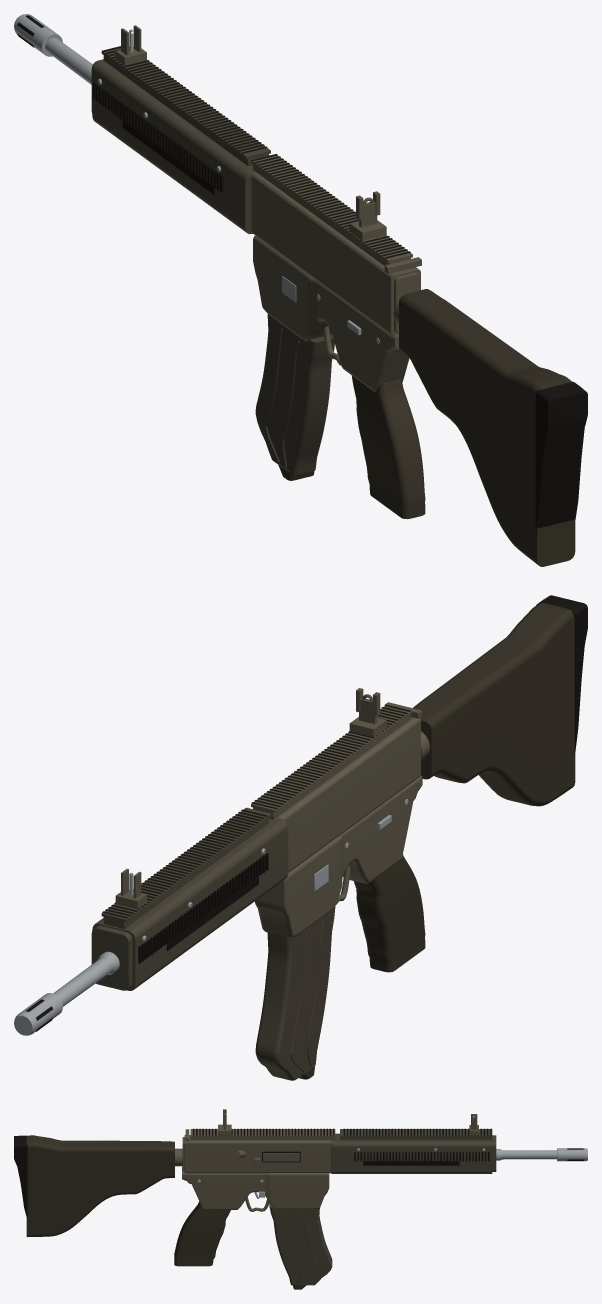
The model's file is ar-heh.glb.
3 renders of one model, top to bottom at view 1: azimuth 30°, elevation 25°; view 2: azimuth 150°, elevation 25°; view 3: azimuth 270°, elevation 25°, orthographic. The views are drawn at different scales.
Visible parts, largest first — view 1: M2_Body, M2_Mag, M2_IronRear, M2_Hider, M2_IronFront; view 2: M2_Body, M2_Mag, M2_Hider, M2_IronRear, M2_IronFront; view 3: M2_Body, M2_Mag, M2_Hider.
Boxes of the visible parts, box(x1,y1,x2,y2) form: M2_Body: box(45, 37, 587, 566); M2_Mag: box(255, 314, 334, 480); M2_IronRear: box(349, 191, 386, 240); M2_Hider: box(14, 14, 62, 56); M2_IronFront: box(115, 25, 146, 65); M2_Body: box(53, 595, 587, 1006); M2_Mag: box(255, 907, 335, 1080); M2_Hider: box(14, 993, 62, 1035); M2_IronRear: box(349, 688, 386, 737); M2_IronFront: box(115, 868, 146, 909); M2_Body: box(14, 1128, 556, 1266); M2_Mag: box(269, 1203, 332, 1289); M2_Hider: box(557, 1148, 587, 1161).
Bounding box in the file's own units: 0.0551 × 0.3145 × 0.9376.
